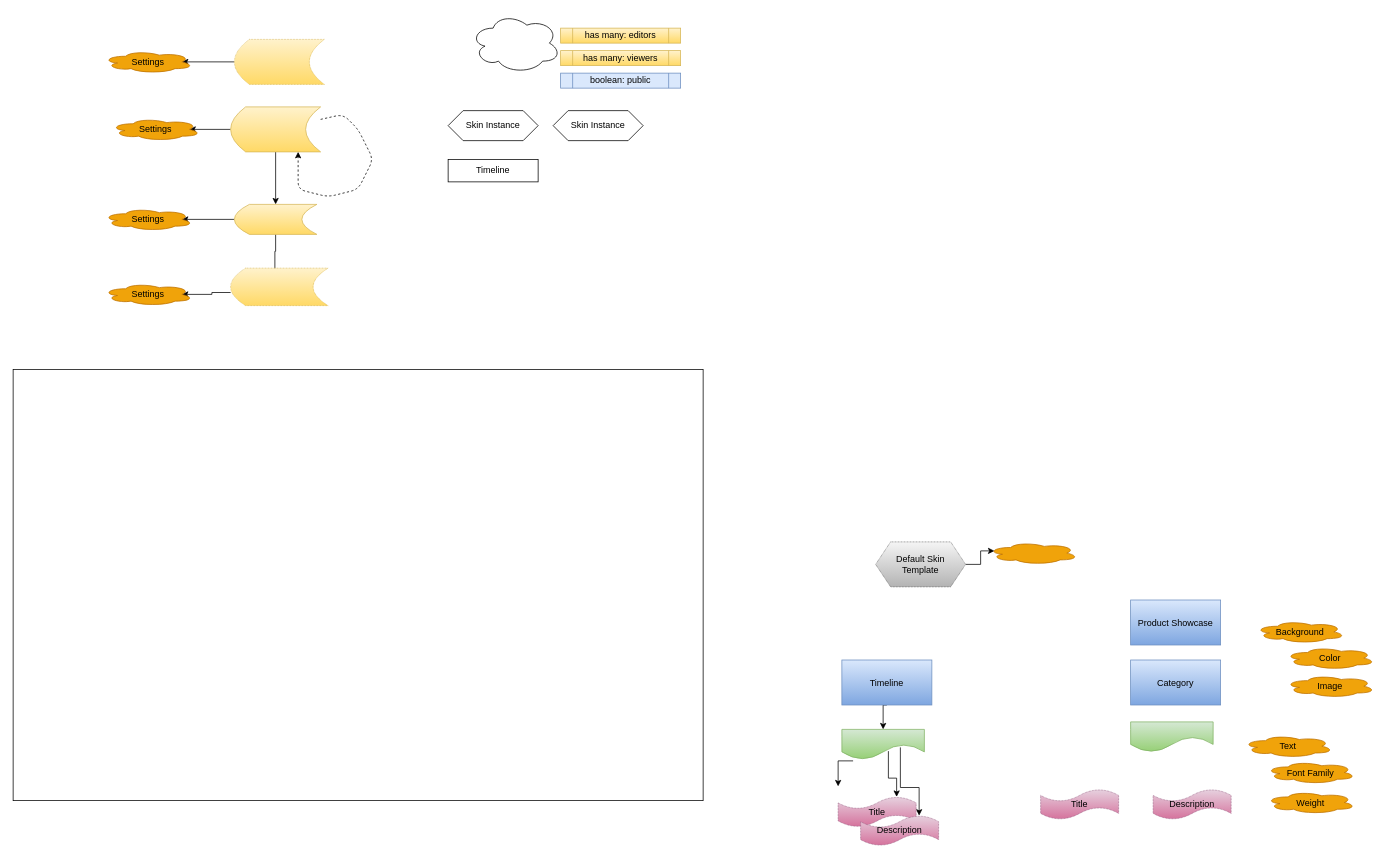
Some shapes in this 1388 by 859 pixel diagram are drawn without their labels. Each missing label, with the box of its shape:
Card Factory: (234, 204, 317, 234)
Event: (841, 729, 924, 759)
Input Factory: (230, 267, 328, 306)
Module Factory: (230, 106, 321, 152)
Organization Name:______: (470, 12, 561, 73)
Product: (1130, 721, 1213, 752)
Skin Factory: (234, 39, 324, 84)
Slide Duration: (987, 541, 1078, 564)
